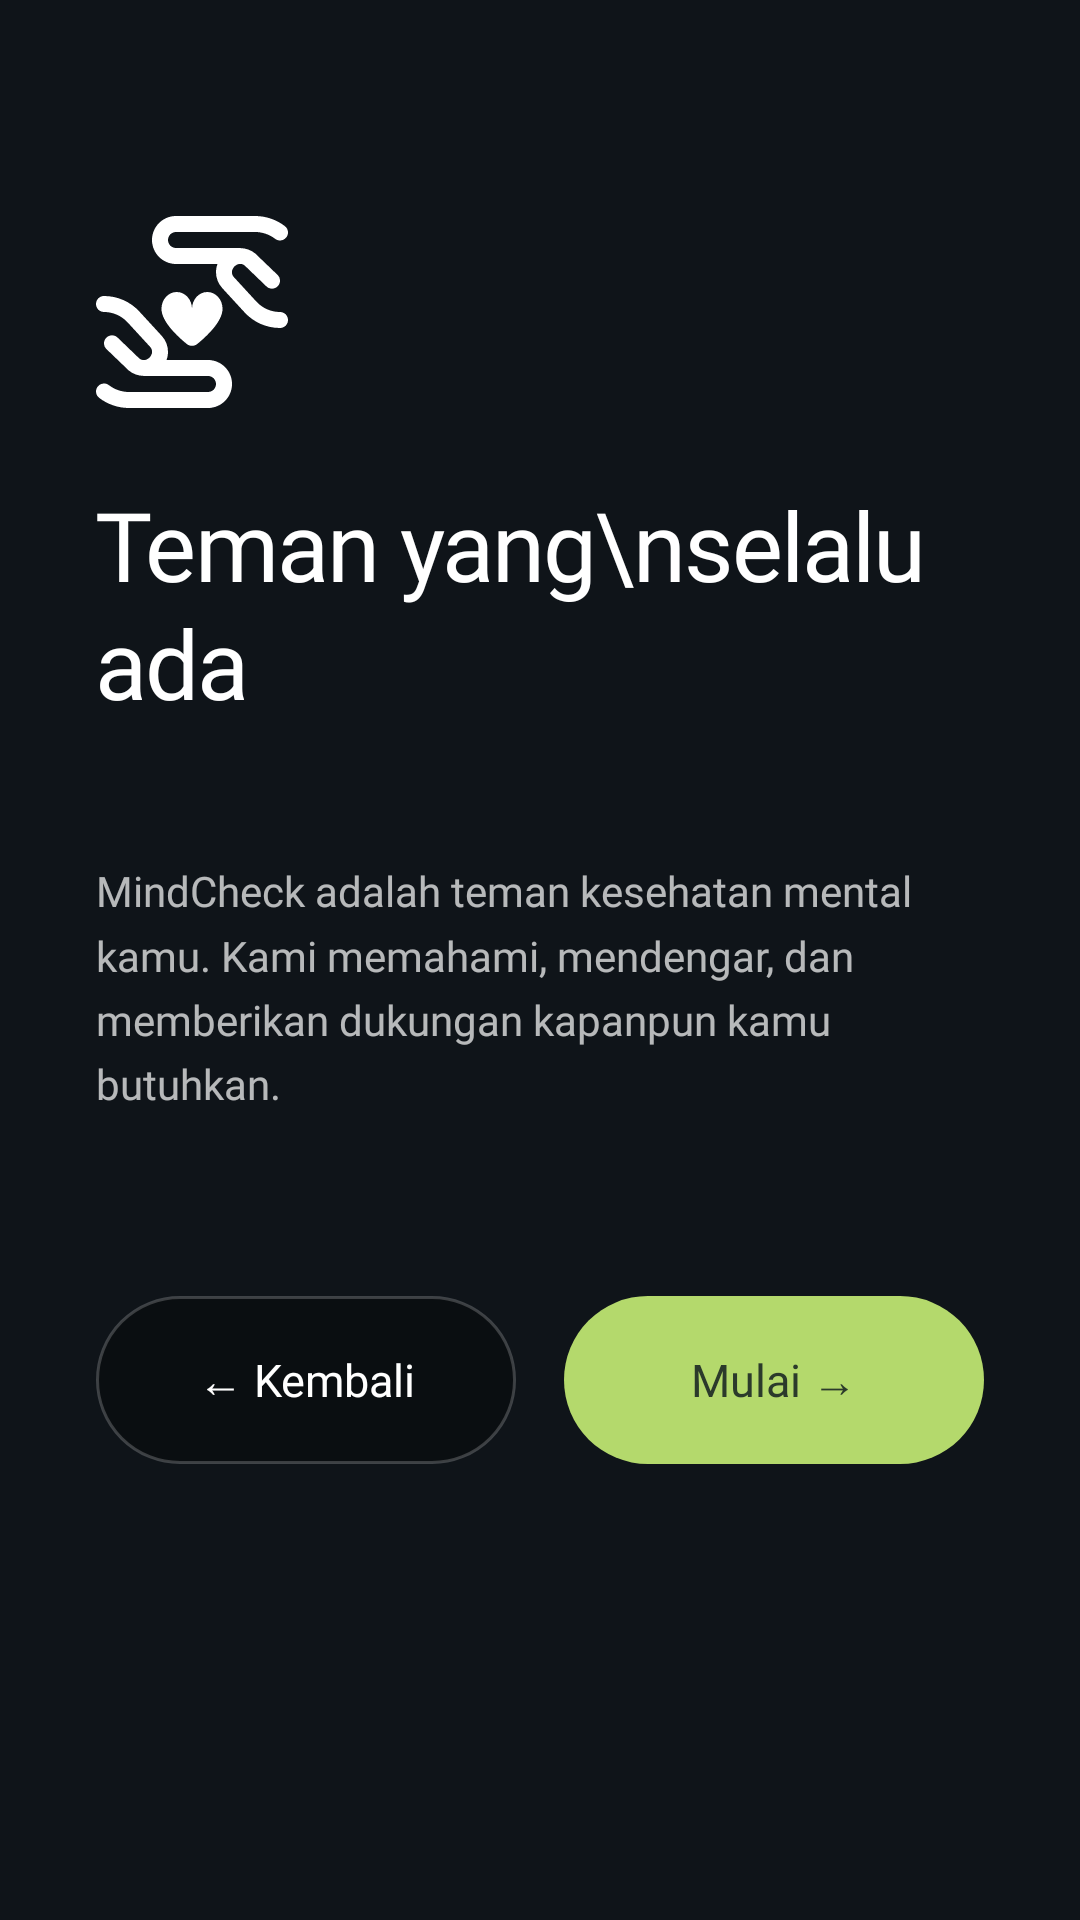

Screen size 1080 × 1920. Icon name, then its box in pixels as {"left": x1, "top": y1, "right": x2, "bottom": y2}:
Support Icon: {"left": 96, "top": 216, "right": 288, "bottom": 408}
